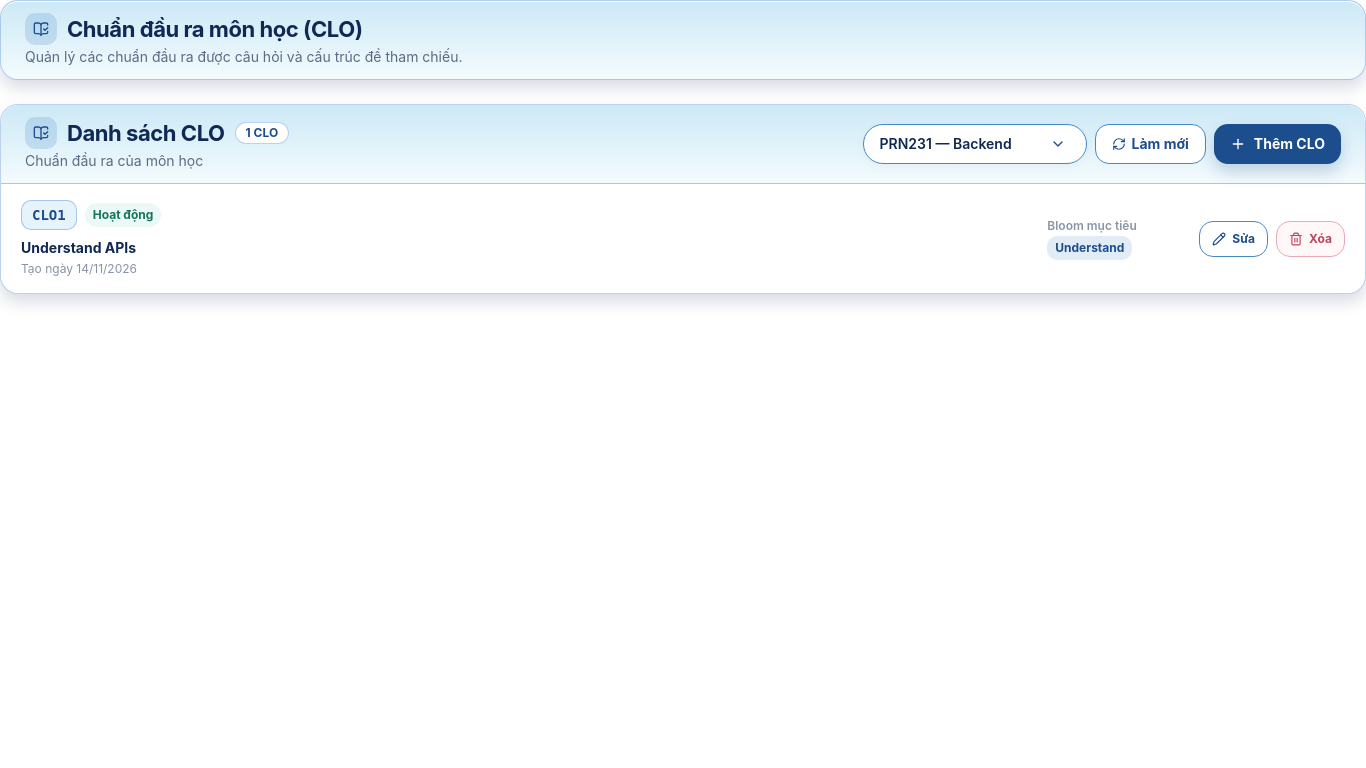
Test: DepartmentCourseClosPage › confirms deletion and displays a dependency error without removing the row
This screenshot has width=1366, height=768.
Check: the text "Understand APIs" is shown, box [21,239,136,256]
Click the button with aria-label "Xóa CLO1".
click(1310, 239)  # box [1276,221,1345,257]
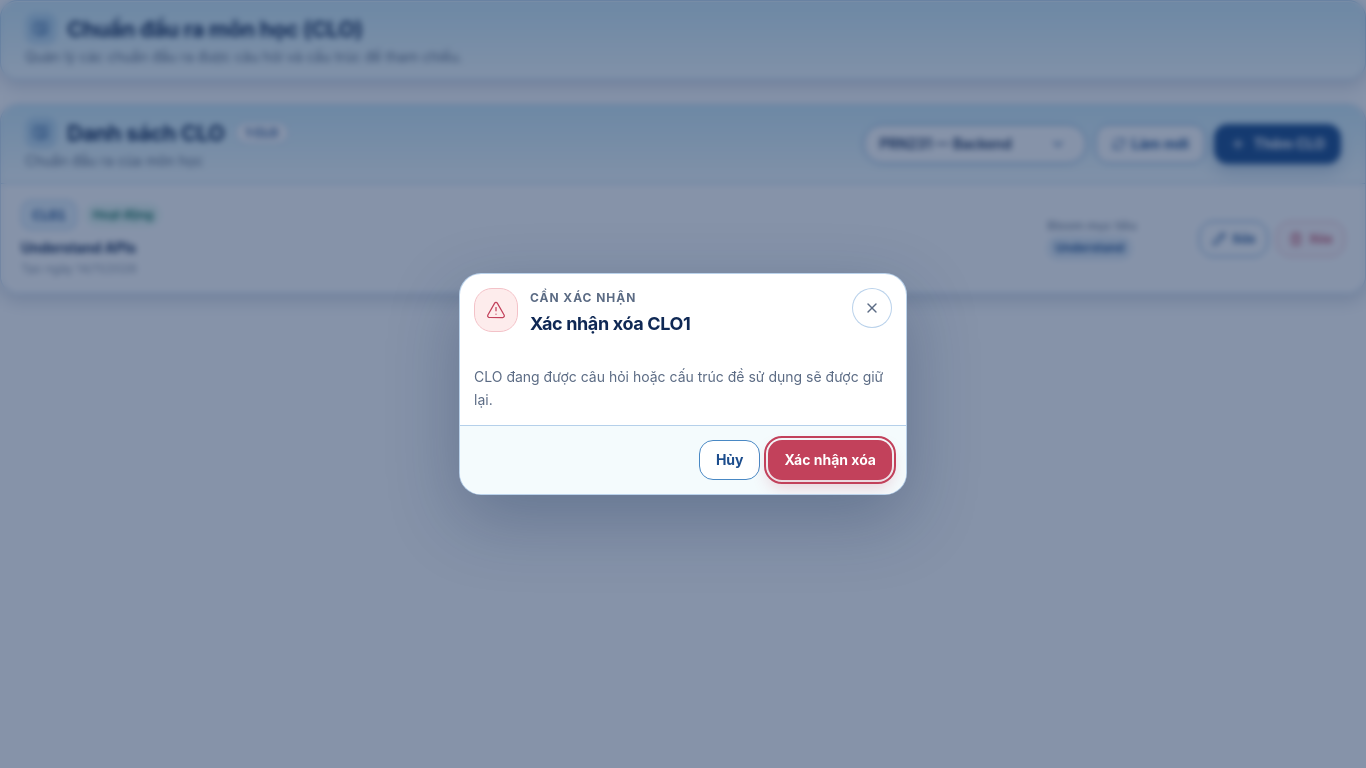
Click the button "Xác nhận xóa".
click(830, 460)  # box [768,440,892,480]
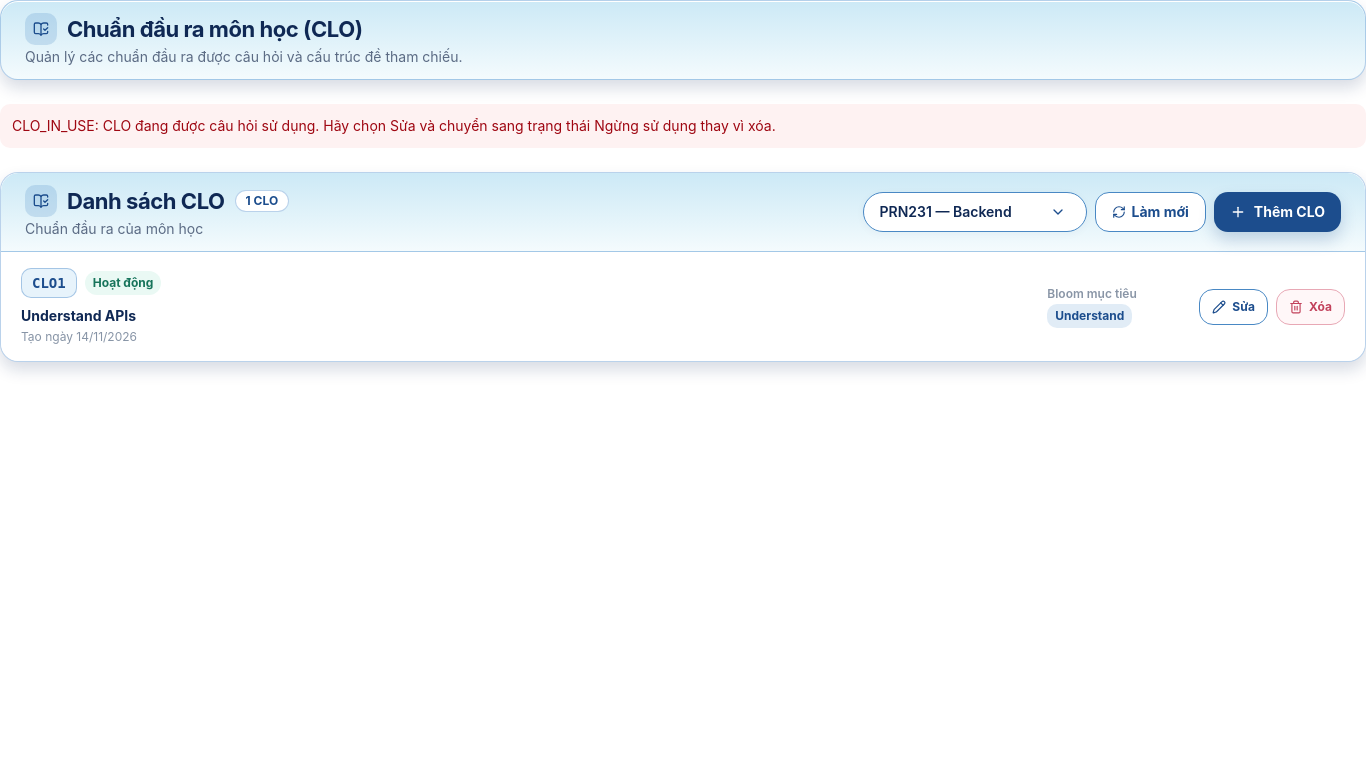
Check: the text "Understand APIs" is shown, box [21,307,136,324]
Check: the message shows "CLO đang được câu hỏi sử dụng", box [12,117,776,134]
